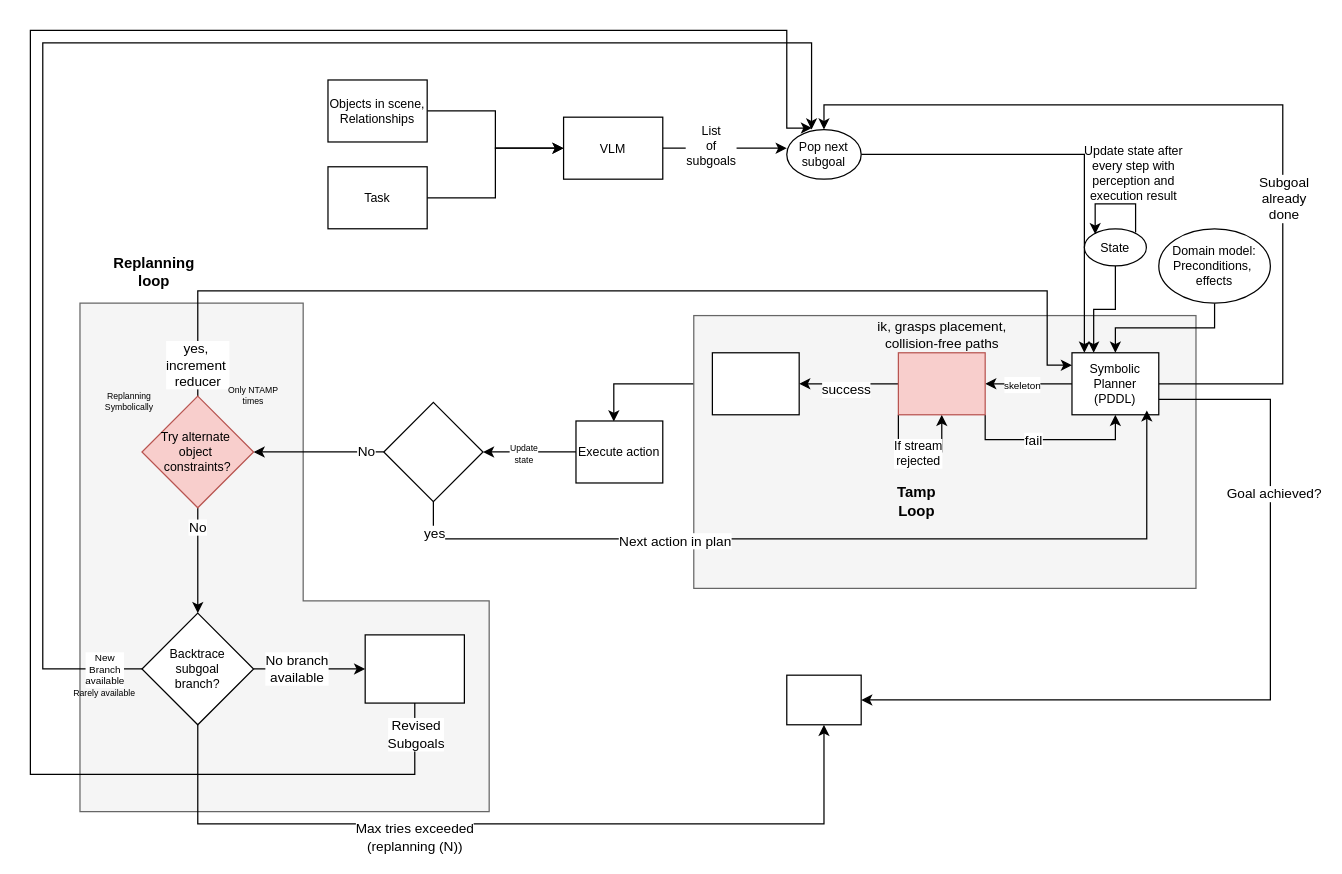
Image size: 1342x874. Some labels were removed from this diagram. Here are the shapes that lost their labels. From the top down, the box of each, then its label:
(711, 352, 799, 415): Motion plan (action set)
(897, 352, 985, 415): Geometric Planner (PDDL Stream)
(383, 401, 483, 502): Execution Succeeded?
(364, 634, 464, 703): VLM reprompt with history + failure
(786, 674, 861, 725): End
